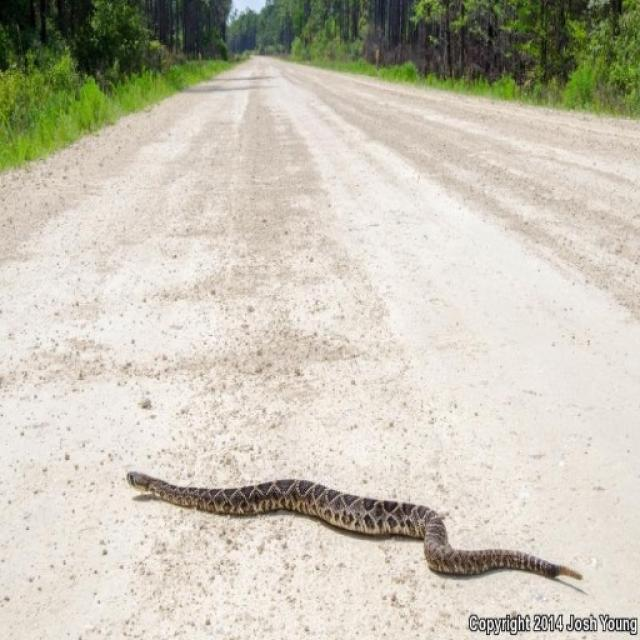snake: (127, 446, 608, 606)
